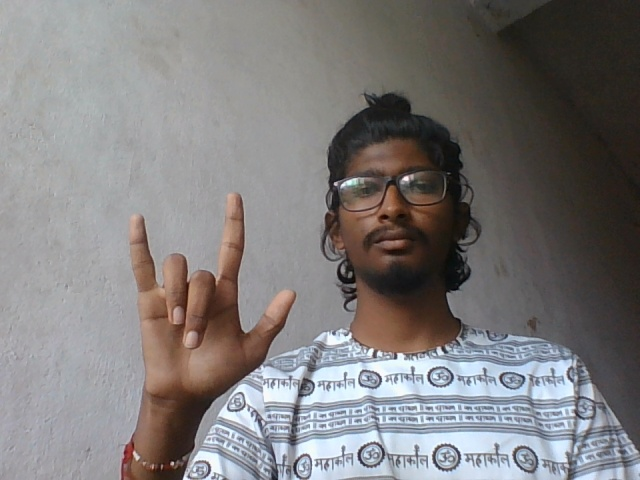House: (120, 188, 304, 417)
